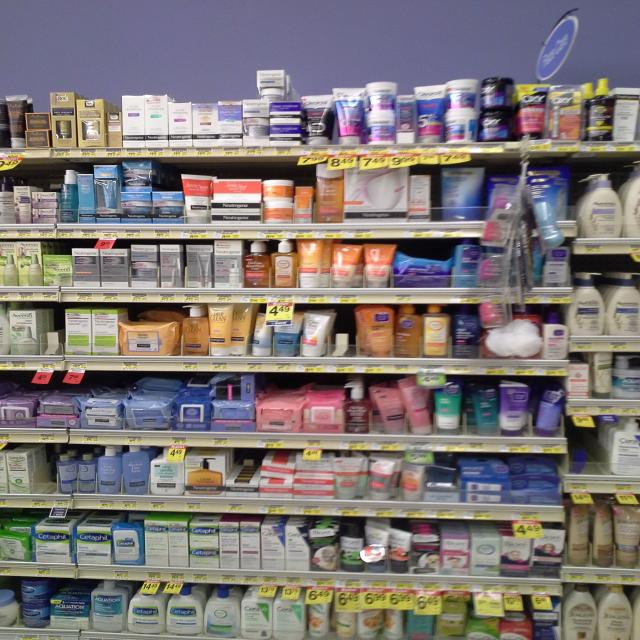unorganised: (571, 502, 613, 568), (437, 168, 486, 221), (367, 526, 411, 573), (466, 385, 498, 439), (310, 602, 354, 640), (405, 388, 433, 438), (374, 391, 403, 434), (536, 390, 563, 435), (394, 310, 420, 354), (394, 95, 418, 142), (259, 457, 294, 484), (231, 305, 249, 357), (255, 313, 272, 356), (382, 603, 402, 638)
